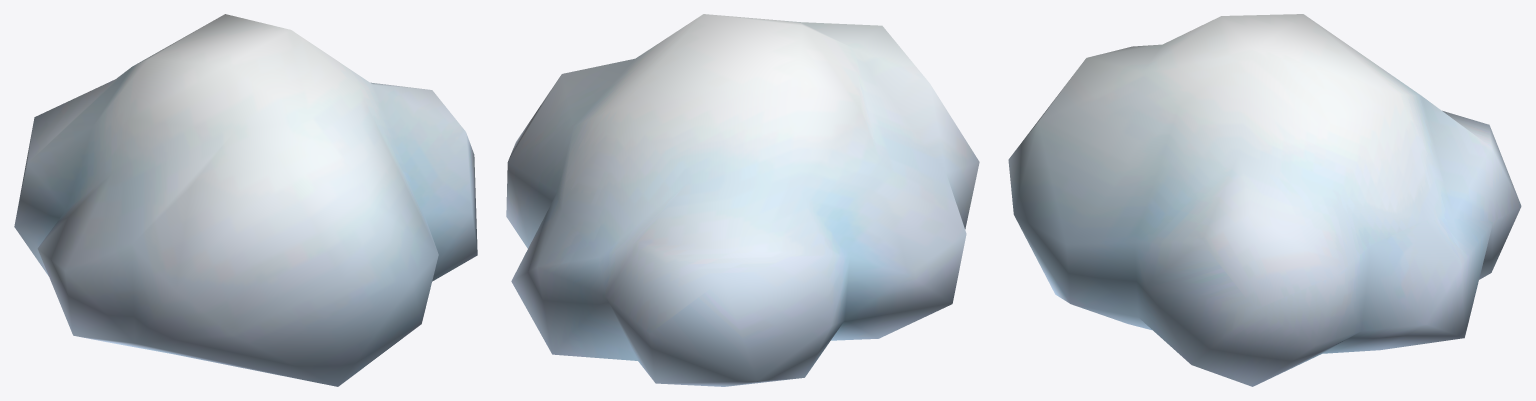
Rendered from cloud_3.fbx.
3 views of the same model, side by side, from view 1: azimuth 30°, elevation 25°; view 2: azimuth 150°, elevation 25°; view 3: azimuth 270°, elevation 25° (orthographic). The views are drawn at different scales.
Visible parts, largest first — view 1: cloud_3; view 2: cloud_3; view 3: cloud_3.
Part boxes in pixels (x1,y1,x2,y2): cloud_3: (14,14,477,386); cloud_3: (506,14,979,386); cloud_3: (1008,14,1521,386).
Size of the model in its own units: 16.75 by 10.4 by 17.6.
